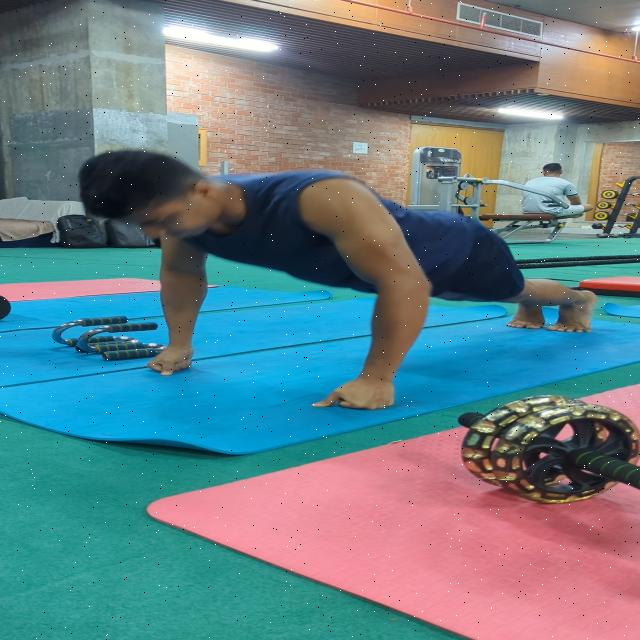Normal_PushUps: (65, 148, 605, 415)
